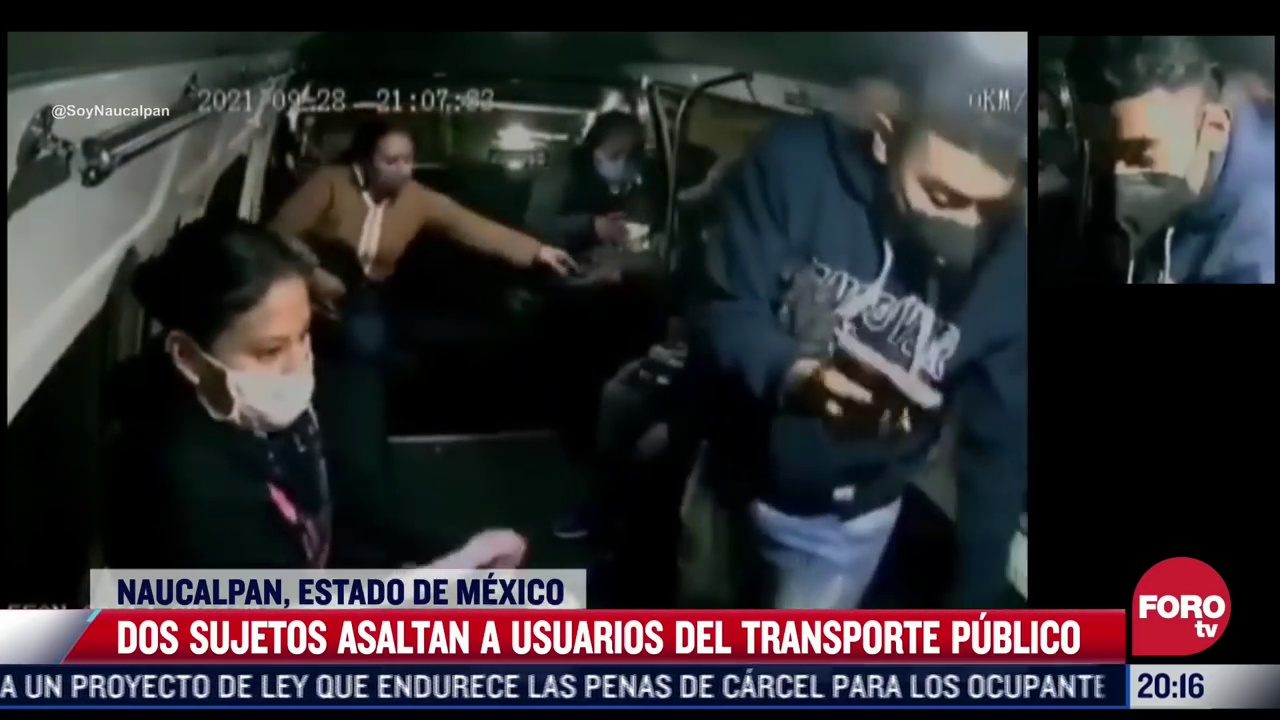pistol: (827, 326, 947, 422)
